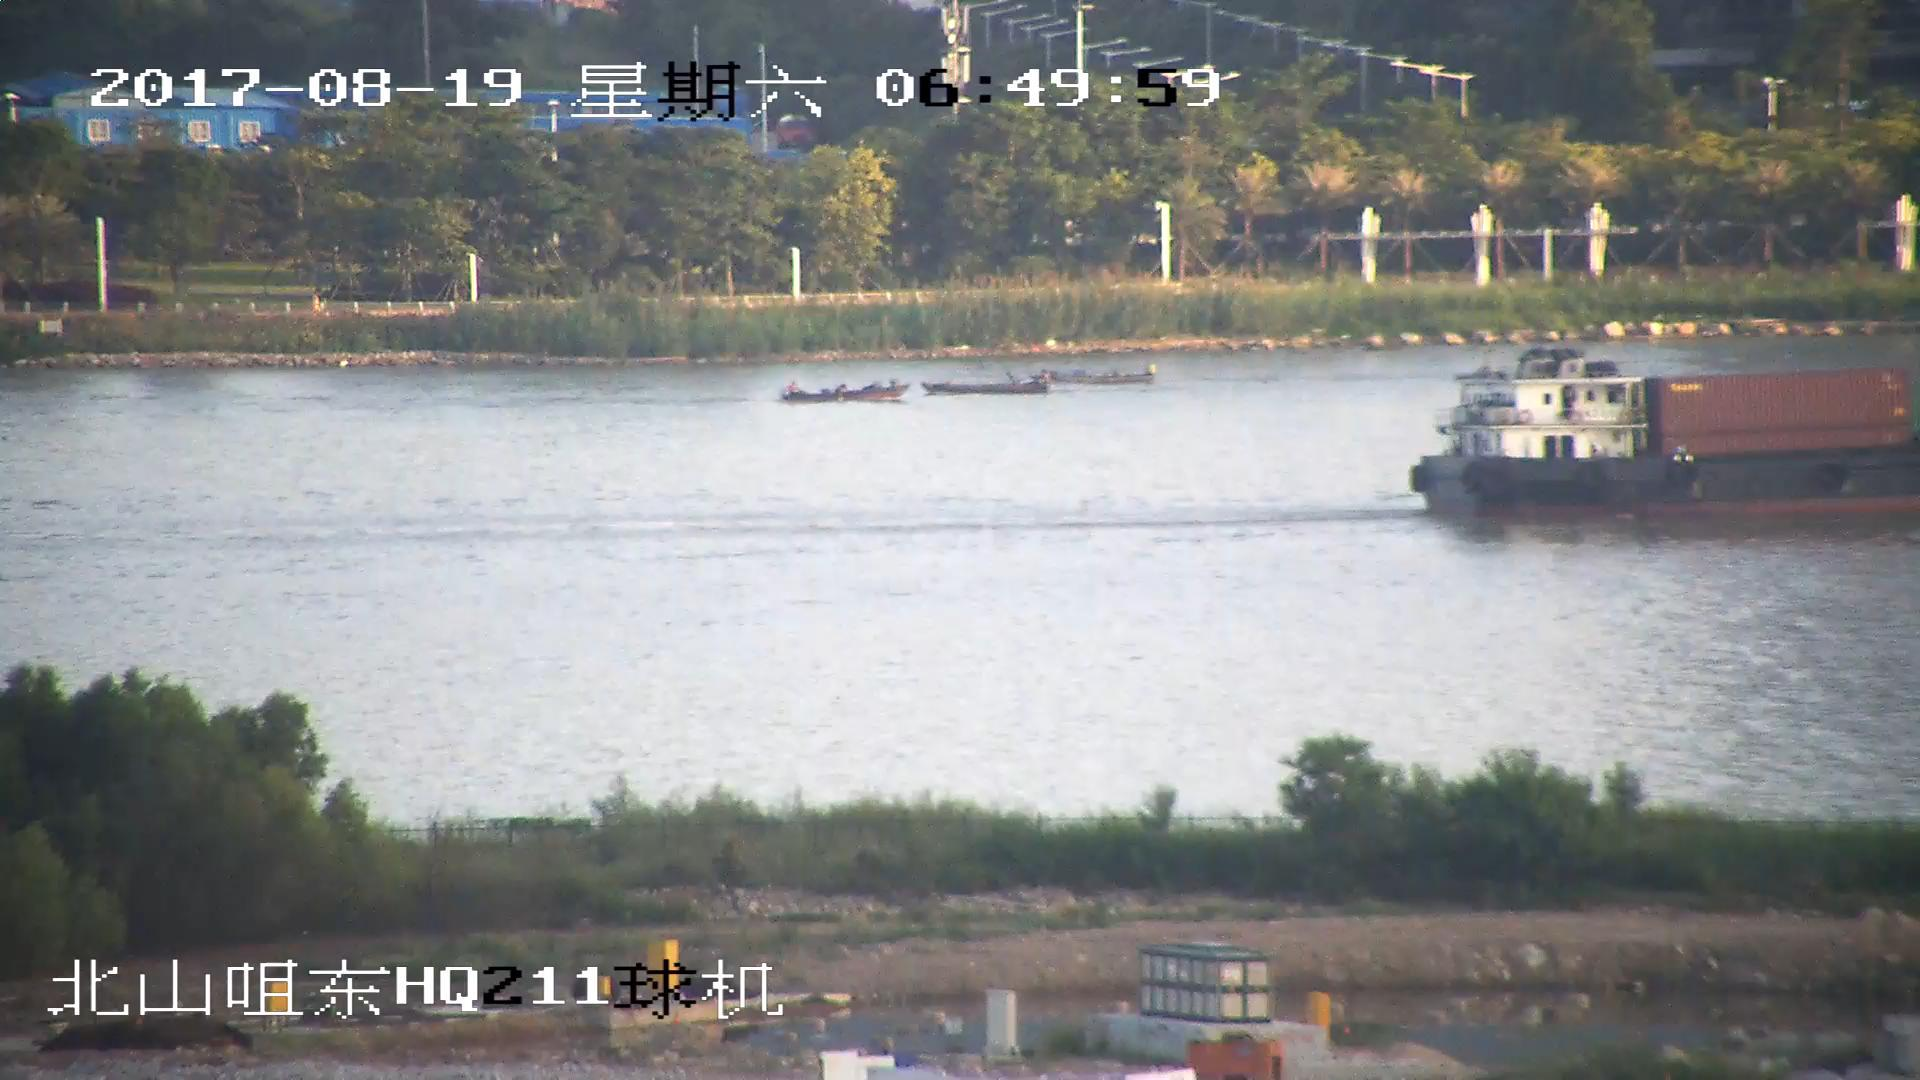Ship: (1408, 351, 1920, 531), (775, 378, 913, 406), (1040, 363, 1162, 393), (924, 376, 1047, 400)
